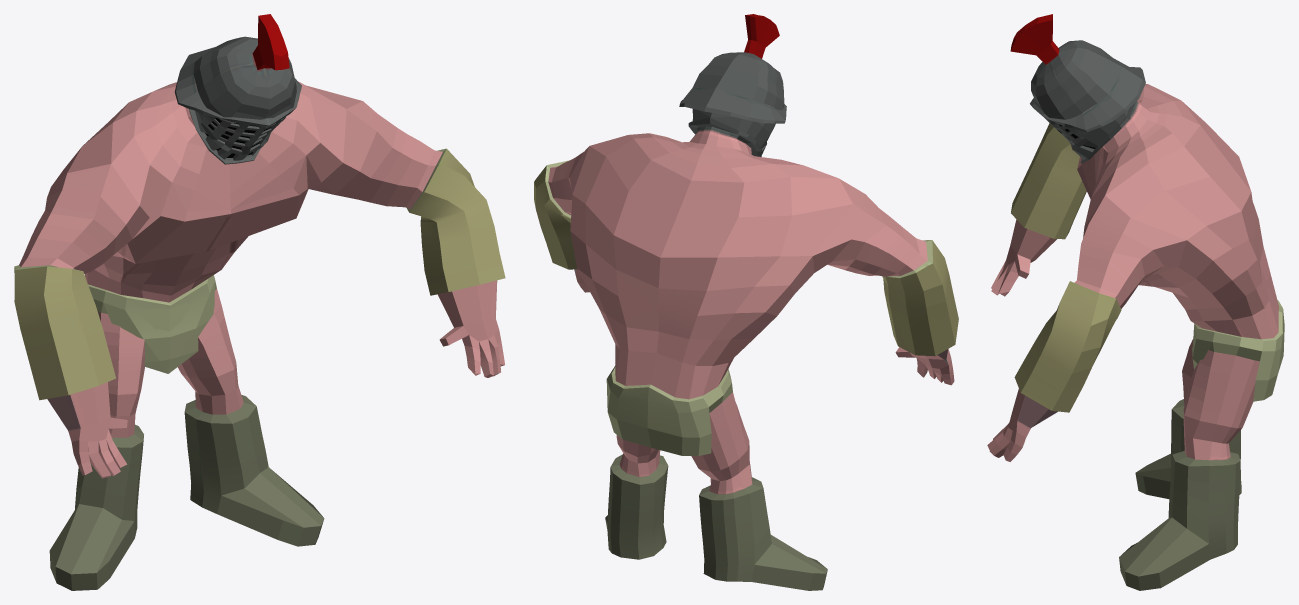
Rendered from GladiatorCelebracion_000510.obj.
3 views of the same model, side by side, from view 1: azimuth 30°, elevation 25°; view 2: azimuth 150°, elevation 25°; view 3: azimuth 270°, elevation 25° (orthographic). The views are drawn at different scales.
Parts seen in each view (by area): view 1: Gadiador_Gladiador_H; view 2: Gadiador_Gladiador_H; view 3: Gadiador_Gladiador_H.
Boxes of the visible parts, bbox=[...] form: Gadiador_Gladiador_H: bbox=[14, 14, 505, 590]; Gadiador_Gladiador_H: bbox=[534, 14, 958, 590]; Gadiador_Gladiador_H: bbox=[987, 14, 1284, 590].
Bounding box in the file's own units: 5.66 × 6.74 × 3.44.
Materials: 1 (1 with a texture image).
